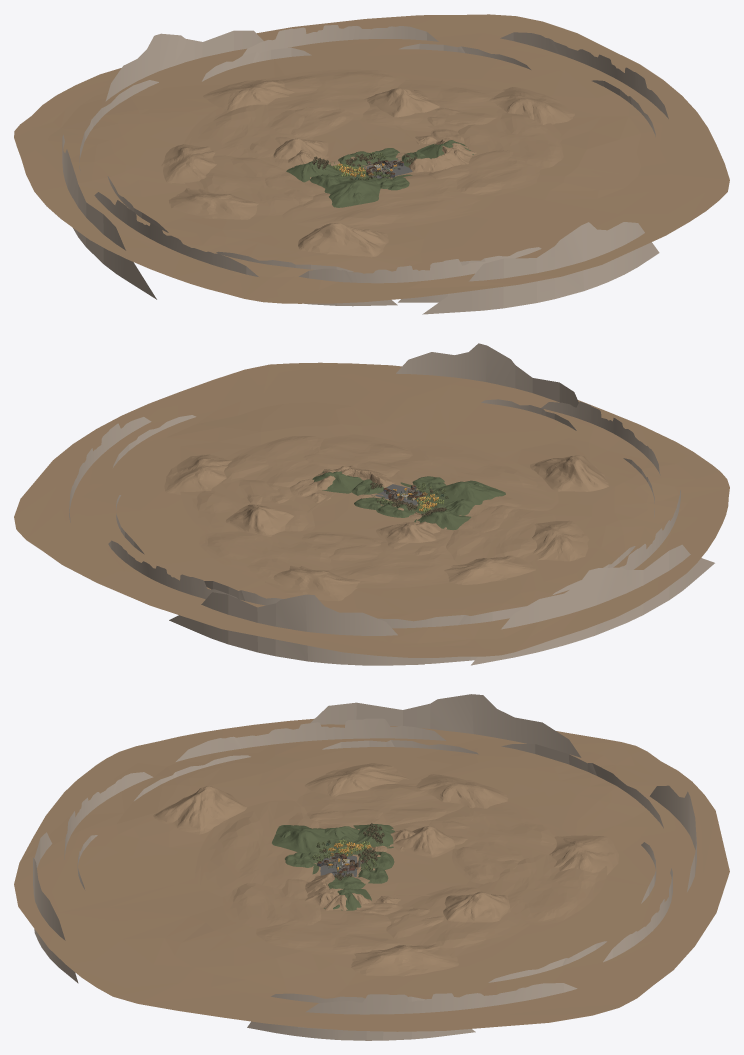
The model's file is Wellington.glb.
3 views of the same model, one above another, from view 1: azimuth 30°, elevation 25°; view 2: azimuth 150°, elevation 25°; view 3: azimuth 270°, elevation 25° (orthographic). The views are drawn at different scales.
Visible parts, largest first — view 1: SM_Env_Mound_Large_02__62_, SM_Env_BackgroundCard_03__1_, SM_Env_Mound_Large_02__61_, SM_Env_Mound_Large_02__51_, SM_Env_Mound_Large_02__52_, SM_Env_Mound_Large_02__58_, SM_Env_Mound_Large_02__55_, SM_Env_Mound_Large_02__60_, SM_Env_BackgroundCard_03, SM_Env_Mound_Large_02__59_, SM_Env_BackgroundCard_03__3_, SM_Env_BackgroundCard_02 (+21 smaller); view 2: SM_Env_Mound_Large_02__62_, SM_Env_BackgroundCard_03, SM_Env_BackgroundCard_03__3_, SM_Env_Mound_Large_02__61_, SM_Env_Mound_Large_02__51_, SM_Env_Mound_Large_02__52_, SM_Env_BackgroundCard_03__1_, SM_Env_Mound_Large_02__55_, SM_Env_Mound_Large_02__58_, SM_Env_Mound_Large_02__60_, SM_Env_Mound_Large_02__59_, SM_Env_Mound_Hill_01__10_ (+19 smaller); view 3: SM_Env_Mound_Large_02__62_, SM_Env_Mound_Large_02__61_, SM_Env_BackgroundCard_03__3_, SM_Env_Mound_Large_02__52_, SM_Env_Mound_Large_02__51_, SM_Env_Mound_Large_02__58_, SM_Env_Mound_Large_02__55_, SM_Env_Mound_Large_02__60_, SM_Env_BackgroundCard_02__2_, SM_Env_BackgroundCard_02__3_, SM_Env_Mound_Large_02__59_, SM_Env_Mound_Hill_02__14_ (+20 smaller).
Part boxes in pixels (x1,y1,x2,y2): SM_Env_Mound_Large_02__62_: (14,14,729,303); SM_Env_BackgroundCard_03__1_: (422,222,659,314); SM_Env_Mound_Large_02__61_: (282,172,495,230); SM_Env_Mound_Large_02__51_: (184,104,313,158); SM_Env_Mound_Large_02__52_: (261,69,408,120); SM_Env_Mound_Large_02__58_: (458,109,563,169); SM_Env_Mound_Large_02__55_: (360,79,504,132); SM_Env_Mound_Large_02__60_: (184,155,315,217); SM_Env_BackgroundCard_03: (105,30,263,101); SM_Env_Mound_Large_02__59_: (423,150,540,195); SM_Env_BackgroundCard_03__3_: (62,135,156,299); SM_Env_BackgroundCard_02: (242,25,438,55); SM_Env_Mound_Large_02__62_: (14,362,729,657); SM_Env_BackgroundCard_03: (169,592,424,665); SM_Env_BackgroundCard_03__3_: (471,544,714,665); SM_Env_Mound_Large_02__61_: (386,440,558,510); SM_Env_Mound_Large_02__51_: (328,537,459,588); SM_Env_Mound_Large_02__52_: (199,530,332,585); SM_Env_BackgroundCard_03__1_: (396,343,578,407); SM_Env_Mound_Large_02__55_: (180,479,314,533); SM_Env_Mound_Large_02__58_: (221,436,333,487); SM_Env_Mound_Large_02__60_: (446,506,564,564); SM_Env_Mound_Large_02__59_: (303,434,412,479); SM_Env_Mound_Hill_01__10_: (530,455,608,491); SM_Env_Mound_Large_02__62_: (14,718,729,1031); SM_Env_Mound_Large_02__61_: (195,800,320,896); SM_Env_BackgroundCard_03__3_: (310,694,581,757); SM_Env_Mound_Large_02__52_: (466,854,607,925); SM_Env_Mound_Large_02__51_: (429,801,570,861); SM_Env_Mound_Large_02__58_: (256,907,411,958); SM_Env_Mound_Large_02__55_: (386,884,529,957); SM_Env_Mound_Large_02__60_: (296,779,463,825); SM_Env_BackgroundCard_02__2_: (298,983,577,1029); SM_Env_BackgroundCard_02__3_: (176,718,445,761); SM_Env_Mound_Large_02__59_: (222,879,321,928); SM_Env_Mound_Hill_02__14_: (351,944,458,976).
Size of the model in its own units: 1527 by 179 by 1465.
33 materials, 21 textured.
